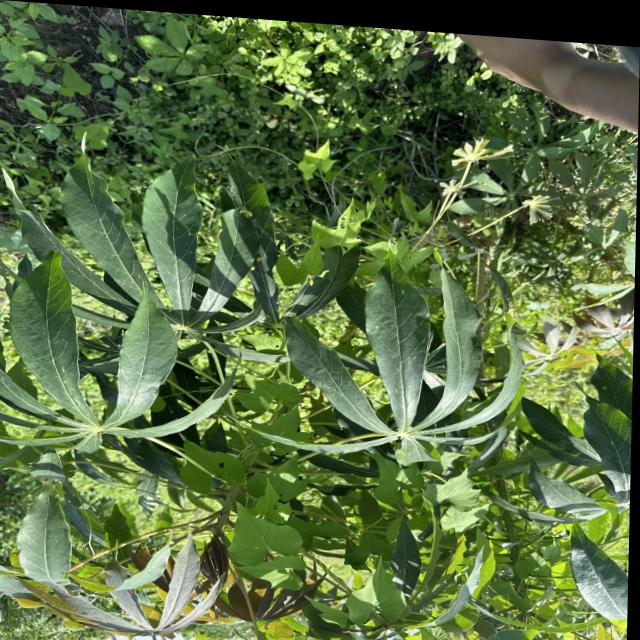Maleza: (0, 13, 305, 172), (265, 0, 419, 240), (260, 490, 408, 639), (192, 440, 306, 559)
